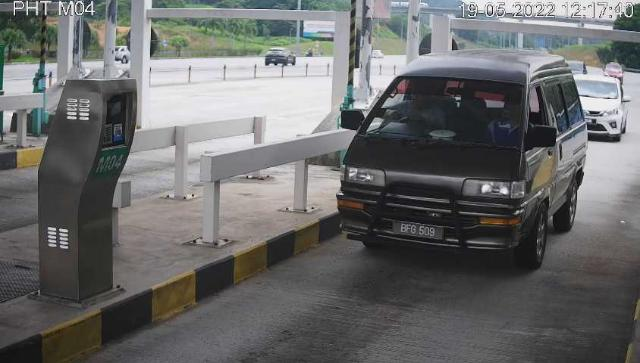License_Plate: (392, 220, 446, 243)
van: (337, 51, 589, 271)
